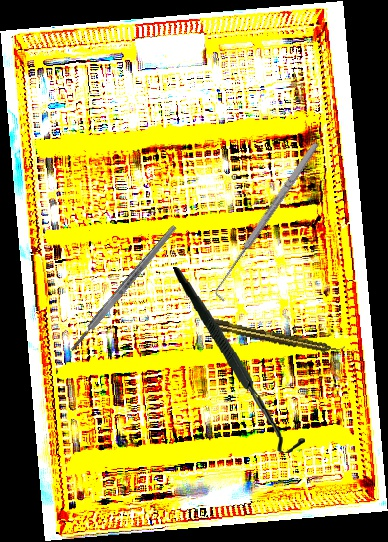Handpiece: (203, 315, 346, 359)
Hook Surgical: (173, 259, 306, 460), (208, 139, 327, 303)
Scalpel Handle: (68, 223, 179, 354)
